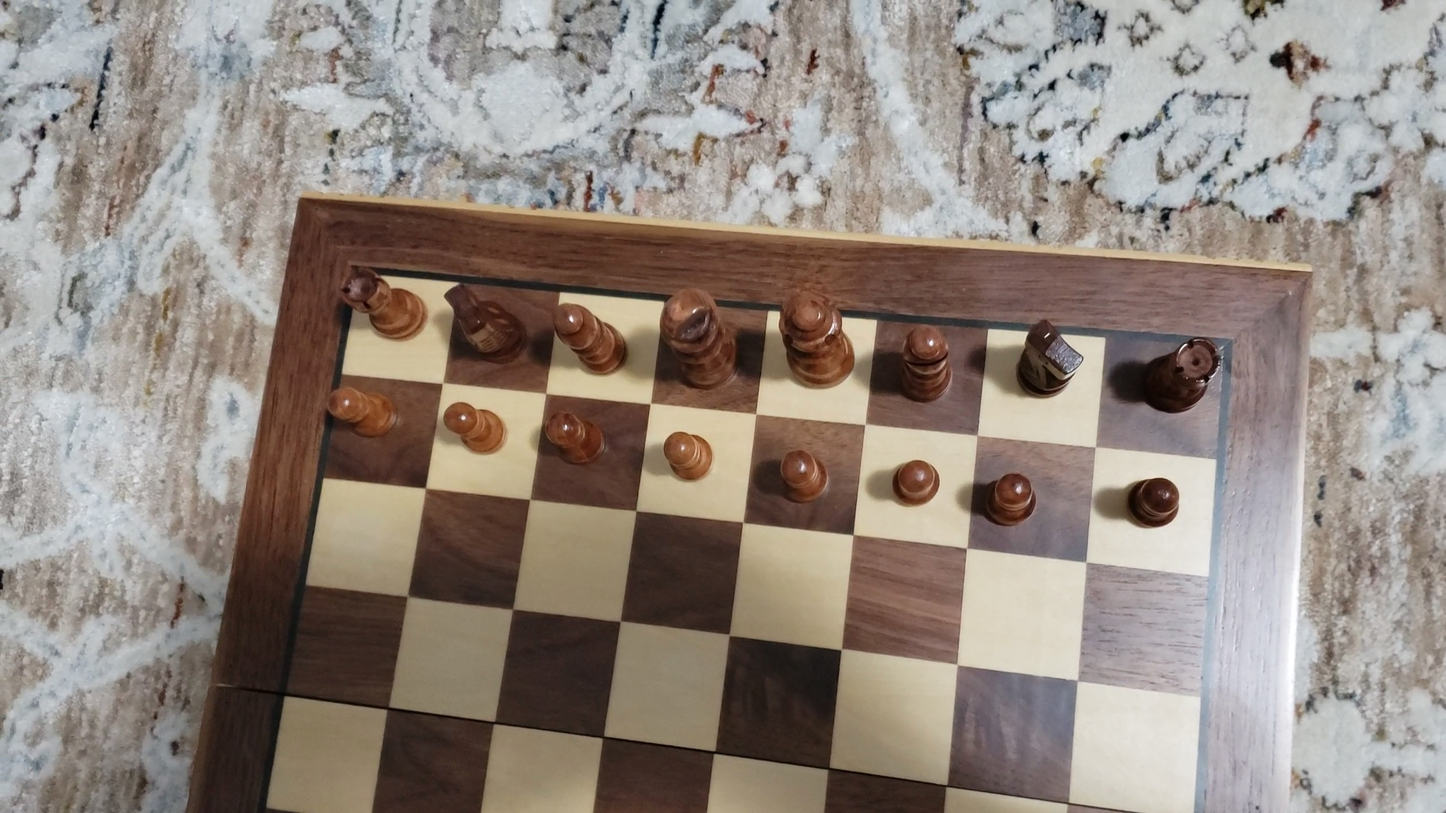black-bishop: (886, 311, 960, 405), (550, 300, 629, 376)
black-king: (657, 282, 741, 390)
black-knight: (444, 281, 528, 365), (1014, 314, 1086, 398)
black-pawn: (325, 383, 395, 439), (543, 408, 606, 466), (441, 399, 506, 455), (980, 469, 1039, 529), (1125, 474, 1183, 531), (777, 444, 828, 504), (661, 429, 714, 483), (889, 456, 941, 509)
black-queen: (777, 283, 856, 388)
black-rook: (339, 263, 425, 340), (1140, 335, 1222, 414)
